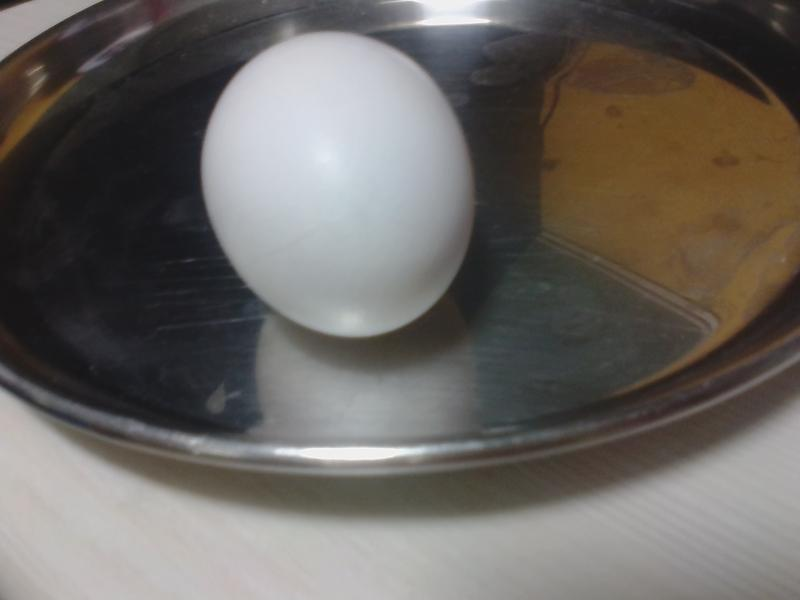egg: (197, 28, 481, 338)
